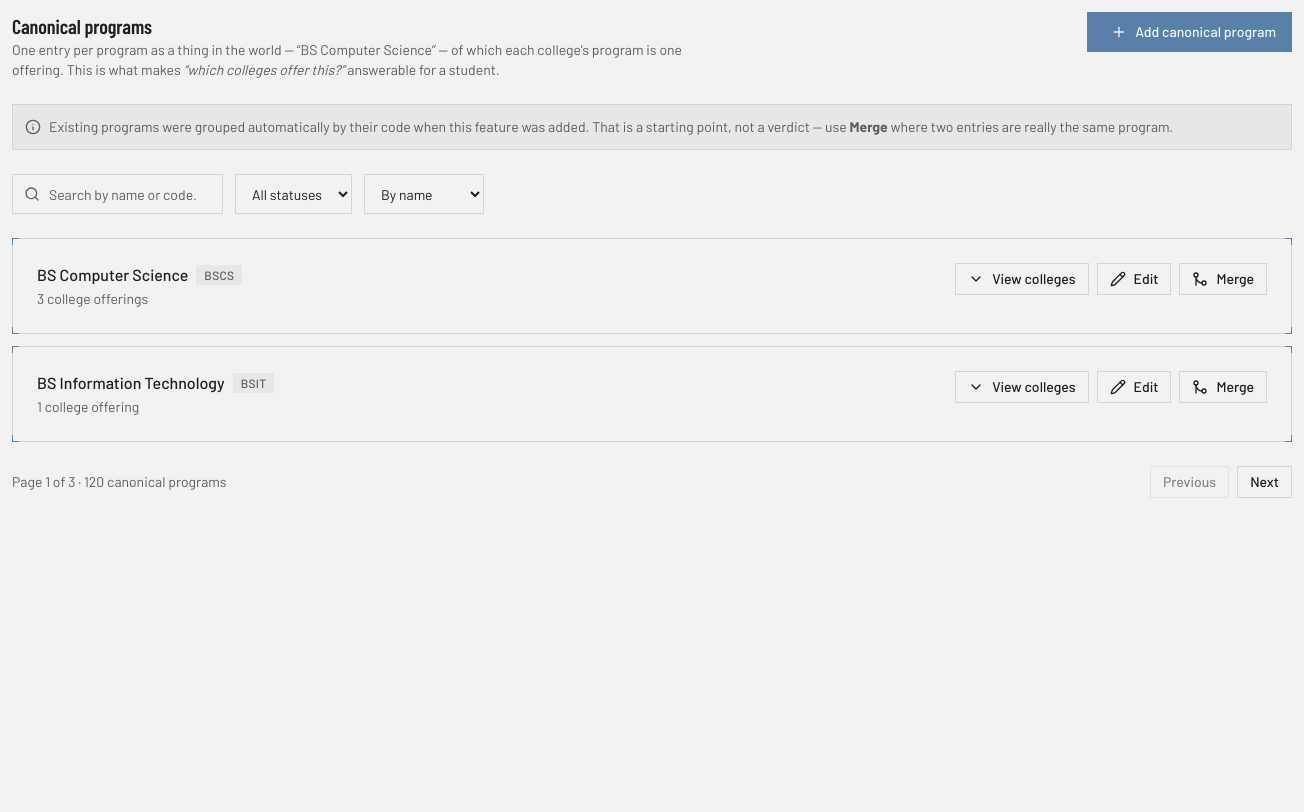
Test: CanonicalProgramPage — merge target picker › says when the candidate list is truncated
This screenshot has width=1304, height=812.
Step 1. Click the button with aria-label "merge bscs" → (1223, 279), box x1=1179 y1=263 x2=1267 y2=295
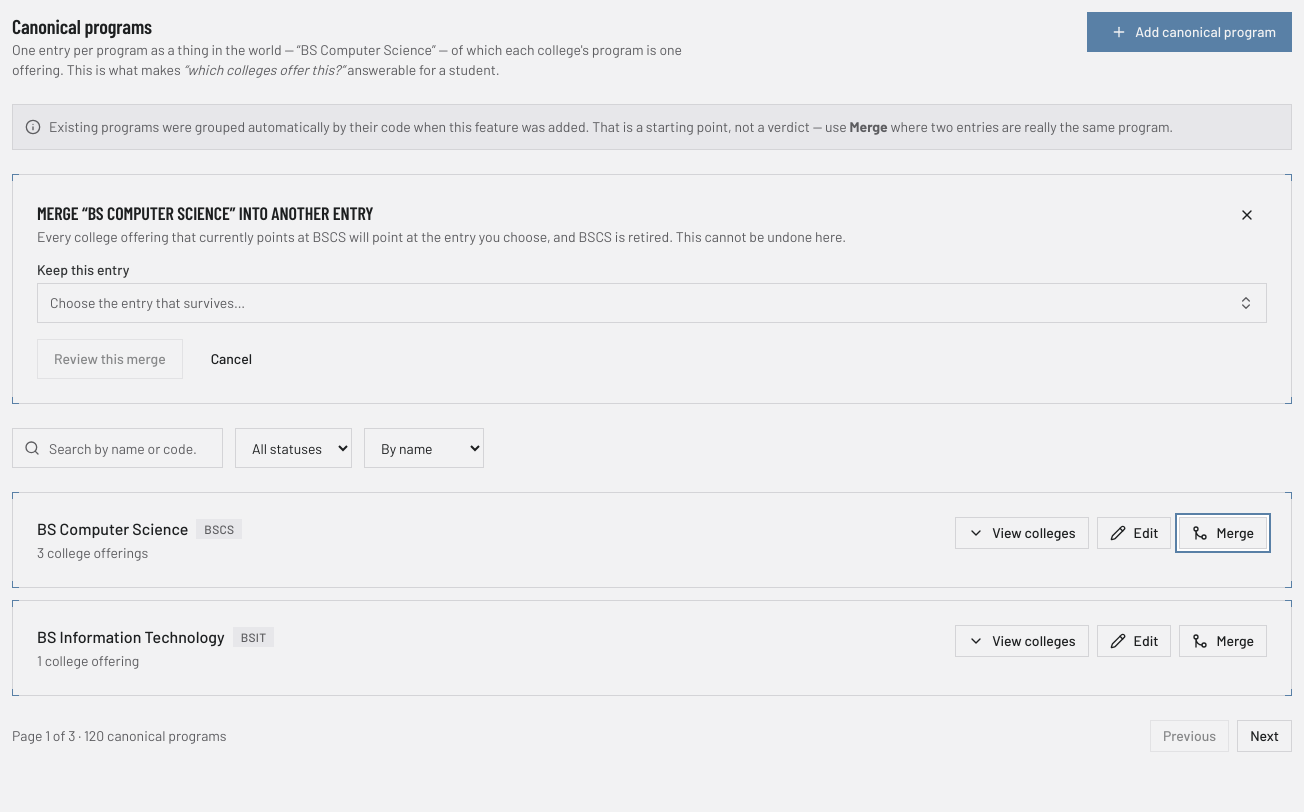
Step 2. Click the button named "keep this entry" → (148, 302), box x1=37 y1=283 x2=1267 y2=323
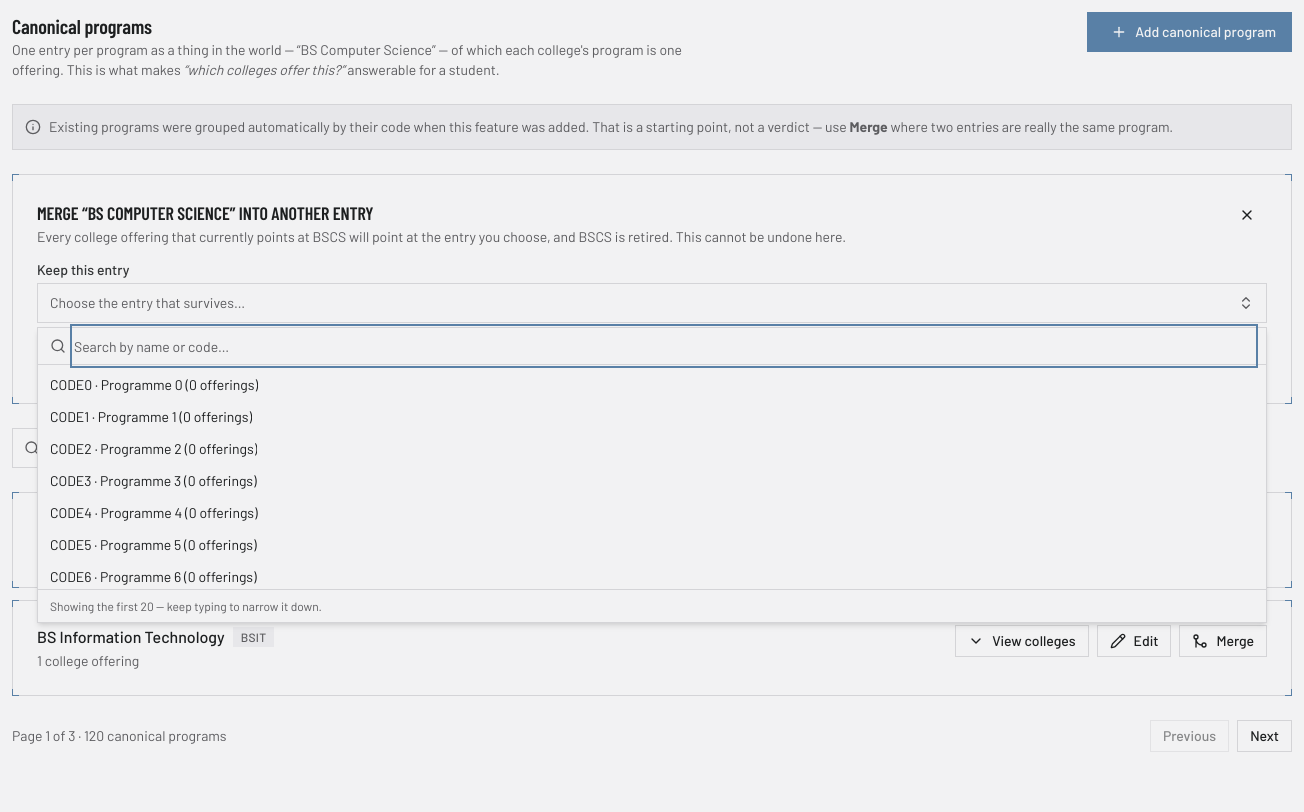
expect the text "Showing the first 20 — keep typing to narrow it down." is shown: met, box x1=38 y1=589 x2=1266 y2=622
